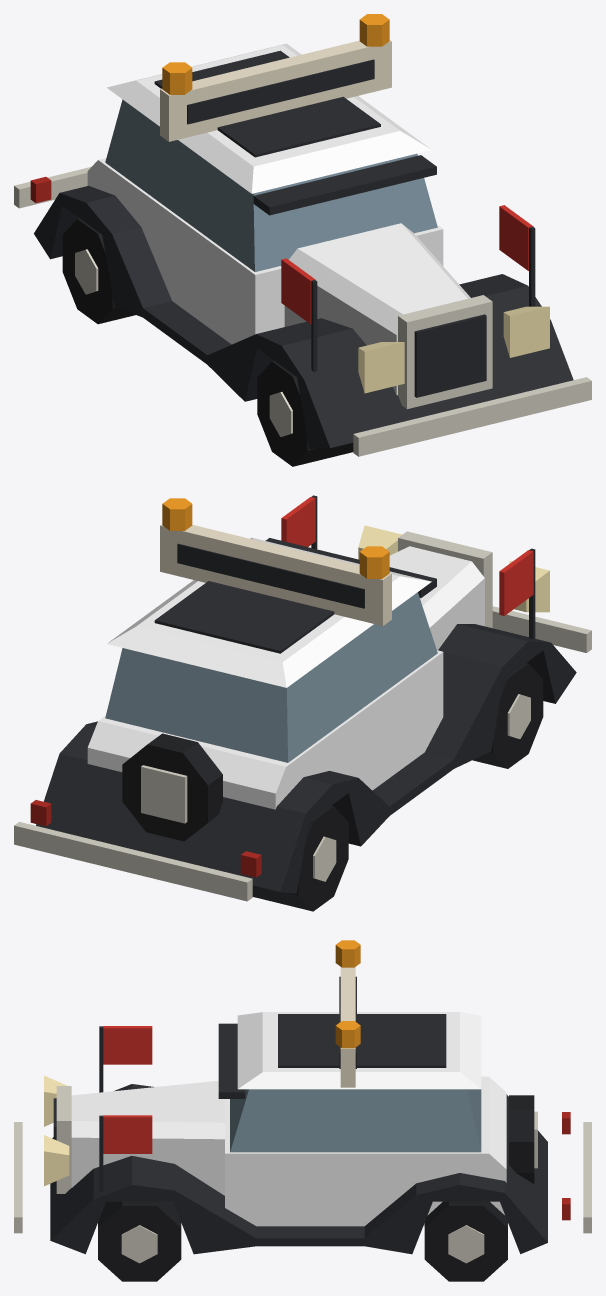
The model's file is escort_car.glb.
The picture shows the model from 3 angles, top to bottom: view 1: azimuth 30°, elevation 25°; view 2: azimuth 150°, elevation 25°; view 3: azimuth 270°, elevation 25°; orthographic projection. The views are drawn at different scales.
Parts seen in each view (by area): view 1: model; view 2: model; view 3: model.
Part boxes in pixels (x1,y1,x2,y2): model: [14, 14, 591, 466]; model: [14, 495, 591, 911]; model: [14, 940, 591, 1281].
Size of the model in its own units: 1.9 by 2.18 by 4.6.
